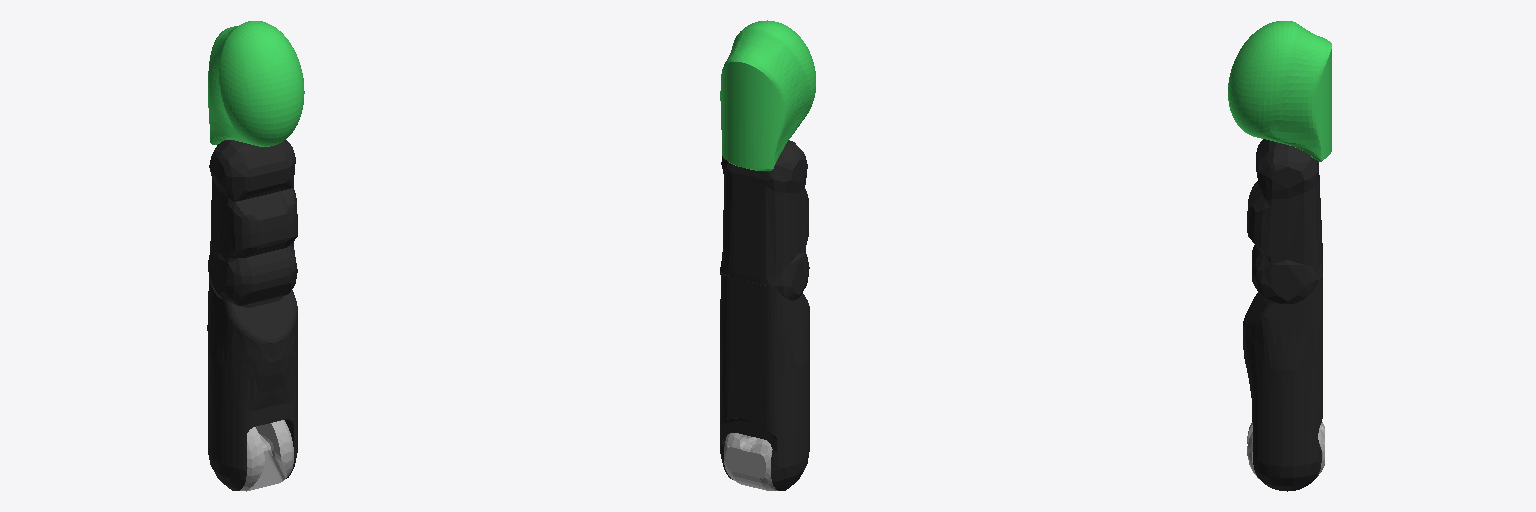
The robot description file, URDF, robot "avatar_left_ff_only":
<?xml version="1.0" ?>
<robot name="avatar_left_ff_only" xmlns:drake="http://drake.mit.edu">  <!-- Avatar mounting shopstand, y forward, z up -->
  <material name="Blue">
    <color rgba="0.0 0.0 0.8 1.0"/>
  </material>
  <material name="Green">
    <color rgba="0.0 0.8 0.0 1.0"/>
  </material>
  <material name="BiotacGreen">
    <color rgba="0.31 0.85 0.42 1.0"/>
  </material>
  <material name="Grey">
    <color rgba="0.2 0.2 0.2 1.0"/>
  </material>
  <material name="LightGrey">
    <color rgba="0.7 0.7 0.7 1.0"/>
  </material>
  <material name="Red">
    <color rgba="0.8 0.0 0.0 1.0"/>
  </material>
  <material name="White">
    <color rgba="1.0 1.0 1.0 1.0"/>
  </material>


  <!-- I made lh_ffknuckle the root link. I removed the J4 which connects the knuckle to the hand (so no splay)   -->

  <link name="lh_ffknuckle">
    <inertial>
      <origin rpy="0 0 0" xyz="0 0 0"/>
      <mass value="0.008"/>
      <inertia ixx="0.00000026" ixy="0.0" ixz="0.0" iyy="0.00000026" iyz="0.0" izz="0.00000032"/>
    </inertial>
    <visual>
      <origin rpy="0 0 0" xyz="0 0 0.0005"/>
      <geometry name="lh_ffknuckle_visual">
        <mesh filename="shadow_hand/meshes/f_knuckle/f_knuckle_E3M5_from_dae.obj" scale="0.001 0.001 0.001"/>
      </geometry>
      <material name="LightGrey"/>
    </visual>
    <collision>
      <origin rpy="0 1.5708 0" xyz="0 0 0"/>
      <geometry name="lh_ffknuckle_collision_geom">
        <cylinder length="0.014" radius="0.007"/>
      </geometry>
    </collision>
  </link>


  <gazebo reference="lh_ffknuckle">
    <!-- knuckle is not highly exposed, so bumper is not useful -->
    <material>Gazebo/Grey</material>
  </gazebo>
  <link name="lh_ffproximal">
    <inertial>
      <mass value="0.030"/>
      <origin xyz="0 0 0.0225"/>
      <inertia ixx="0.0000098" ixy="0.0" ixz="0.0" iyy="0.00001" iyz="0.0" izz="0.0000018"/>
    </inertial>
    <visual>
      <origin rpy="0 0 0" xyz="0 0 0"/>
      <geometry name="lh_ffproximal_visual">
        <mesh filename="shadow_hand/meshes/f_proximal/f_proximal_E3M5_from_dae.obj" scale="0.001 0.001 0.001"/>
      </geometry>
      <material name="Grey"/>
    </visual>
    <collision>
      <origin rpy="0 0 0" xyz="0 0 0.025"/>
      <geometry name="lh_ffproximal_collision_geom">
        <cylinder length="0.040" radius="0.007"/>
      </geometry>
    </collision>
  </link>
  <joint name="lh_FFJ3" type="revolute">
    <parent link="lh_ffknuckle"/>
    <child link="lh_ffproximal"/>
    <origin rpy="0 0 0" xyz="0 0 0"/>
    <axis xyz="1 0 0"/>
    <limit effort="2" lower="-0.2617993877991494" upper="1.5707963267948966" velocity="2.0"/>
    <dynamics damping="0.1"/>
  </joint>
  <gazebo reference="lh_FFJ3">
    <provideFeedback>1</provideFeedback>
    <implicitSpringDamper>1</implicitSpringDamper>
  </gazebo>
  <transmission name="lh_ffproximal_transmission">
    <type>sr_mechanism_model/SimpleTransmission</type>
    <actuator name="lh_FFJ3">
      <mechanicalReduction>1</mechanicalReduction>
    </actuator>
    <joint name="lh_FFJ3">
      <hardwareInterface>EffortJointInterface</hardwareInterface>
      <hardwareInterface>PositionJointInterface</hardwareInterface>
    </joint>
  </transmission>
  <gazebo reference="lh_ffproximal">
    <selfCollide>true</selfCollide>
  </gazebo>
  <link name="lh_ffmiddle">
    <inertial>
      <origin rpy="0 0 0" xyz="0 0 0.0125"/>
      <mass value="0.017"/>
      <inertia ixx="0.0000026" ixy="0.0" ixz="0.0" iyy="0.0000027" iyz="0.0" izz="0.00000087"/>
    </inertial>
    <visual>
      <origin rpy="0 0 0" xyz="0 0 0"/>
      <geometry name="lh_ffmiddle_visual">
        <mesh filename="shadow_hand/meshes/f_middle/f_middle_E3M5_from_dae.obj" scale="0.001 0.001 0.001"/>
      </geometry>
      <material name="Grey"/>
    </visual>
    <collision>
      <origin rpy="0 0 0" xyz="0 0 0.0125"/>
      <geometry name="lh_ffmiddle_collision_geom">
        <cylinder length="0.025" radius="0.007"/>
      </geometry>
    </collision>
    <collision>
      <origin rpy="0 0 0" xyz="0 0 0.0"/>
      <geometry>
        <sphere radius="0.007"/>
      </geometry>
    </collision>
    <collision>
      <origin rpy="0 0 0" xyz="0 0 0.025"/>
      <geometry>
        <sphere radius="0.007"/>
      </geometry>
    </collision>
  </link>
  <joint name="lh_FFJ2" type="revolute">
    <parent link="lh_ffproximal"/>
    <child link="lh_ffmiddle"/>
    <origin rpy="0 0 0" xyz="0 0 0.045"/>
    <axis xyz="1 0 0"/>
    <limit effort="2" lower="0" upper="1.5707963267948966" velocity="2.0"/>
    <dynamics damping="0.1"/>
  </joint>
  <gazebo reference="lh_FFJ2">
    <provideFeedback>1</provideFeedback>
    <implicitSpringDamper>1</implicitSpringDamper>
  </gazebo>
  <!-- Transmission manually edited -->
  <transmission name="lh_ffmiddle_transmission">
    <type>sr_mechanism_model/SimpleTransmission</type>
    <actuator name="lh_FFJ2">
      <mechanicalReduction>1</mechanicalReduction>
    </actuator>
    <joint name="lh_FFJ2">
      <hardwareInterface>EffortJointInterface</hardwareInterface>
      <hardwareInterface>PositionJointInterface</hardwareInterface>
    </joint>
  </transmission>
  <gazebo reference="lh_ffmiddle">
    <selfCollide>true</selfCollide>
  </gazebo>
  <link name="lh_ffdistal">
    <inertial>
      <mass value="0.012"/>
      <origin xyz="0 0 0.012"/>
      <inertia ixx="0.00000094" ixy="0.0" ixz="0.0" iyy="0.0000011" iyz="0.0" izz="0.00000053"/>
    </inertial>
    <visual>
      <origin rpy="0 0 0" xyz="0 0 0"/>
      <geometry name="lh_ffdistal_visual">
        <mesh filename="shadow_hand/meshes/f_distal/bt_sp/f_distal_bt_sp_from_dae.obj" scale="0.001 0.001 0.001"/>
      </geometry>
      <material name="BiotacGreen">
        <color rgba="0.31 0.85 0.42 1.0"/>
      </material>
    </visual>
    <collision>
      <origin rpy="0 0 0" xyz="0 0 0"/>
      <geometry name="lh_ffdistal_collision_geom">
        <mesh filename="shadow_hand/meshes/f_distal/bt_sp/f_distal_bt_sp_from_dae.obj" scale="0.001 0.001 0.001"/>
      </geometry>

      <drake:proximity_properties>
        <drake:compliant_hydroelastic/>
        <drake:hydroelastic_modulus value="1.0e7"/>
        <drake:mesh_resolution_hint value="0.01"/>
        <drake:hunt_crossley_dissipation value="1.5"/>
      </drake:proximity_properties>
    </collision>
  </link>
  <joint name="lh_FFJ1" type="revolute">
    <parent link="lh_ffmiddle"/>
    <child link="lh_ffdistal"/>
    <origin rpy="0 0 0" xyz="0 0 0.025"/>
    <axis xyz="1 0 0"/>
    <!-- standard distal joint -->
    <limit effort="2" lower="0" upper="1.5707963267948966" velocity="2.0"/>
    <dynamics damping="0.1"/>
  </joint>
  <gazebo reference="lh_FFJ1">
    <provideFeedback>1</provideFeedback>
    <implicitSpringDamper>1</implicitSpringDamper>
  </gazebo>
  <link name="lh_fftip">
    <inertial>
      <mass value="0.001"/>
      <inertia ixx="0.0" ixy="0.0" ixz="0.0" iyy="0.0" iyz="0.0" izz="0.0"/>
    </inertial>
  </link>
  <joint name="lh_FFtip" type="fixed">
    <parent link="lh_ffdistal"/>
    <child link="lh_fftip"/>
    <origin rpy="0 0 0" xyz="0 0 0.026"/>
  </joint>
  <gazebo reference="lh_ffdistal">
    <sensor name="lh_ffdistal_contact" type="contact">
      <always_on>1</always_on>
      <update_rate>1000.0</update_rate>
      <contact>
        <collision>lh_ffdistal_collision</collision>
        <topic>lh_ffdistal_collision</topic>
      </contact>
      <plugin filename="libgazebo_ros_bumper.so" name="lh_ffdistal_gazebo_ros_bumper_controller">
        <alwaysOn>true</alwaysOn>
        <frameName>lh_ffdistal</frameName>
        <updateRate>100.0</updateRate>
        <bumperTopicName>contacts/lh_ff/distal</bumperTopicName>
      </plugin>
    </sensor>
    <mu1 value="500.0"/>
    <mu2 value="500.0"/>
    <kp value="10000000.0"/>
    <kd value="1.0"/>
    <selfCollide>true</selfCollide>
  </gazebo>
  <!-- Transmission manually edited -->
  <transmission name="lh_ffdistal_transmission">
    <type>sr_mechanism_model/SimpleTransmission</type>
    <actuator name="lh_FFJ1">
      <mechanicalReduction>1</mechanicalReduction>
    </actuator>
    <joint name="lh_FFJ1">
      <hardwareInterface>EffortJointInterface</hardwareInterface>
      <hardwareInterface>PositionJointInterface</hardwareInterface>
    </joint>
  </transmission>


  
</robot>

--- What the picture shows (computed from the rendered views, not written in the file) ---
The picture shows the robot from 3 angles, left to right: view 1: azimuth 30°, elevation 25°; view 2: azimuth 150°, elevation 25°; view 3: azimuth 270°, elevation 25°; orthographic projection.
Robot: avatar_left_ff_only — 5 links, 4 joints (3 revolute, 1 fixed); root link lh_ffknuckle; default pose: every joint at zero.
Links seen in each view (by area): view 1: lh_ffproximal, lh_ffmiddle, lh_ffdistal, lh_ffknuckle; view 2: lh_ffproximal, lh_ffdistal, lh_ffmiddle, lh_ffknuckle; view 3: lh_ffproximal, lh_ffdistal, lh_ffmiddle.
Link boxes in pixels (bbox=[...]): lh_ffproximal: bbox=[207, 278, 297, 490]; lh_ffmiddle: bbox=[208, 140, 297, 305]; lh_ffdistal: bbox=[208, 21, 304, 146]; lh_ffknuckle: bbox=[240, 420, 293, 491]; lh_ffproximal: bbox=[720, 273, 809, 490]; lh_ffdistal: bbox=[720, 20, 815, 170]; lh_ffmiddle: bbox=[720, 140, 809, 300]; lh_ffknuckle: bbox=[724, 433, 777, 490]; lh_ffproximal: bbox=[1243, 274, 1322, 491]; lh_ffdistal: bbox=[1228, 21, 1331, 161]; lh_ffmiddle: bbox=[1247, 139, 1322, 303].
Size in the robot's own frame: 0.02 by 0.0234 by 0.1134 metres.
Meshes: 4 distinct files referenced, 4 mesh visuals loaded (4 OBJ).
